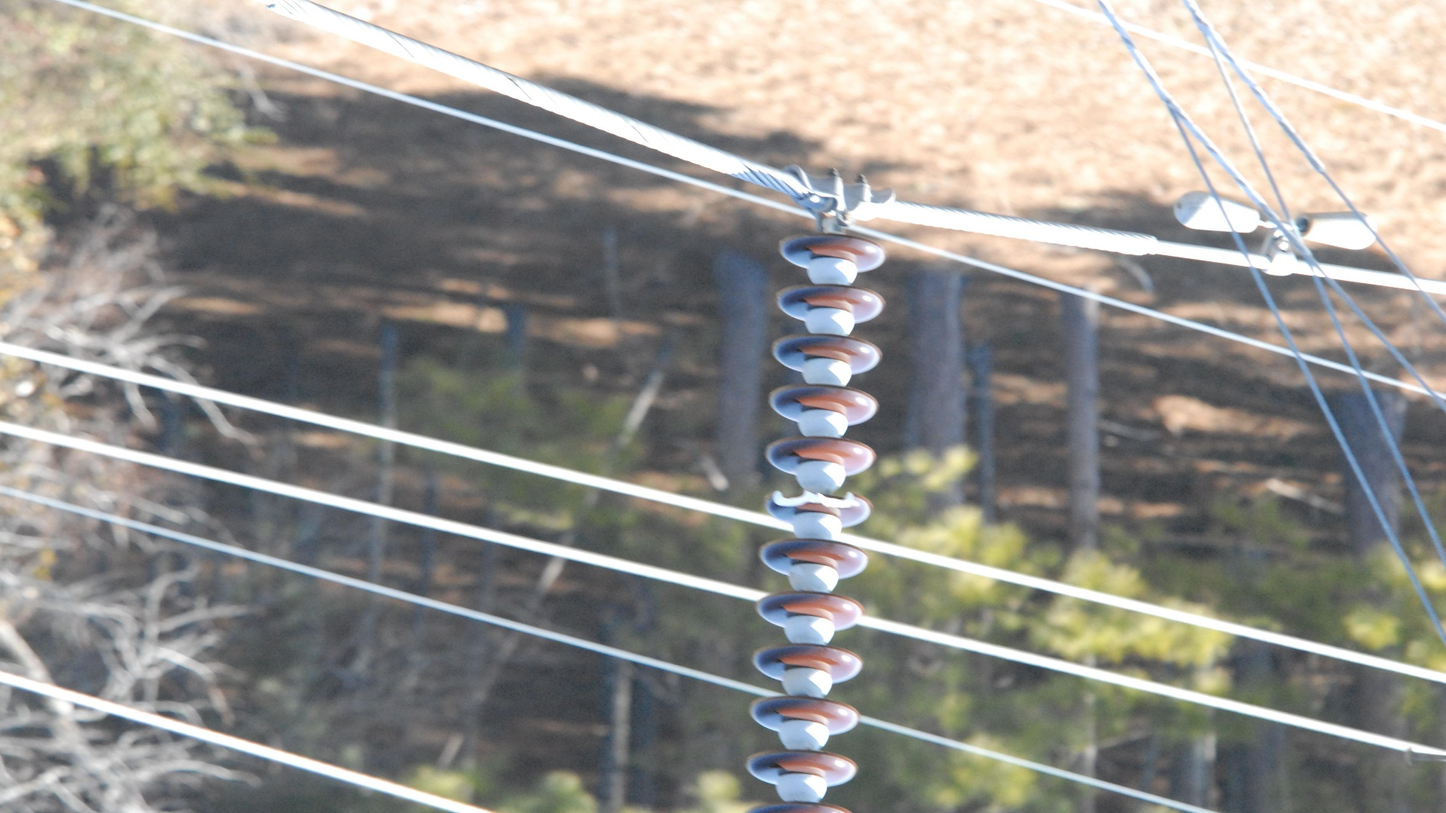insulator: (739, 228, 892, 813)
insulator_breakage: (767, 487, 862, 512)
